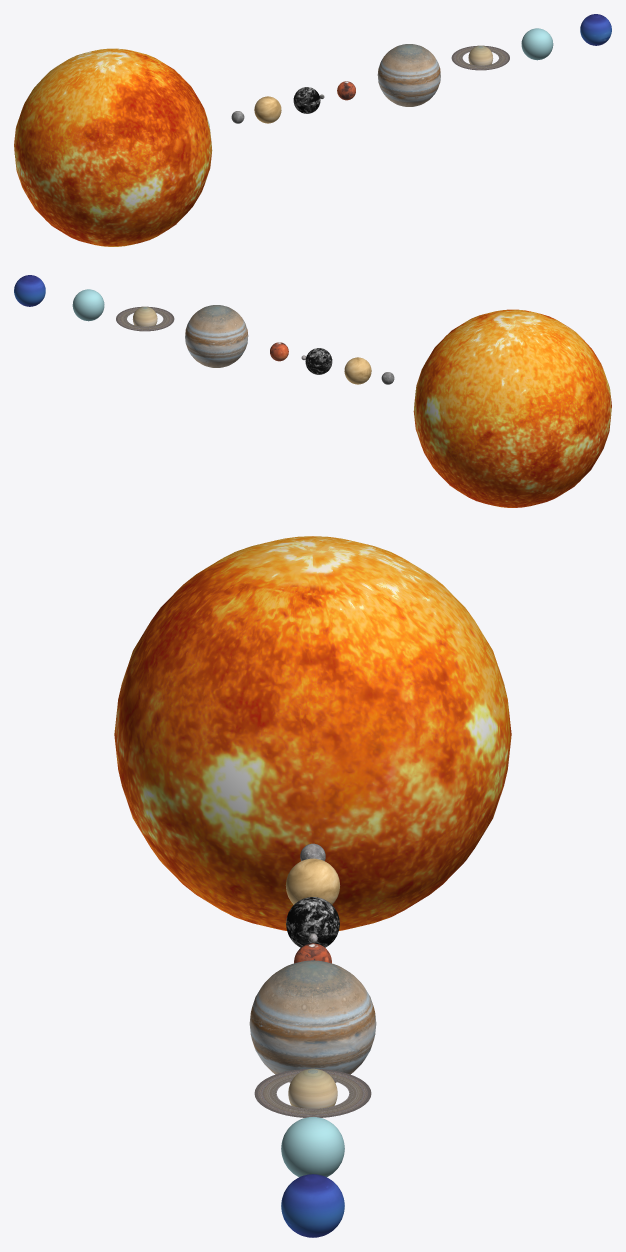
File: solar system.FBX
3 renders of one model, top to bottom at view 1: azimuth 30°, elevation 25°; view 2: azimuth 150°, elevation 25°; view 3: azimuth 270°, elevation 25°, orthographic. The views are drawn at different scales.
Visible parts, largest first — view 1: sun, jupiter, uranus, neptune, Tube002, venus001, earth001, saturn; view 2: sun, jupiter, uranus, neptune, Tube002, venus001, earth001, saturn; view 3: sun, jupiter, neptune, uranus, Tube002, earth001, venus001, saturn.
Boxes of the visible parts, x1=… form: sun: x1=14, y1=48, x2=212, y2=246; jupiter: x1=377, y1=44, x2=440, y2=106; uranus: x1=521, y1=28, x2=553, y2=60; neptune: x1=580, y1=14, x2=611, y2=45; Tube002: x1=451, y1=45, x2=509, y2=70; venus001: x1=254, y1=96, x2=281, y2=123; earth001: x1=293, y1=87, x2=320, y2=113; saturn: x1=468, y1=45, x2=493, y2=65; sun: x1=413, y1=309, x2=611, y2=507; jupiter: x1=185, y1=305, x2=248, y2=367; uranus: x1=72, y1=289, x2=104, y2=321; neptune: x1=14, y1=275, x2=45, y2=306; Tube002: x1=116, y1=306, x2=174, y2=331; venus001: x1=344, y1=357, x2=371, y2=384; earth001: x1=305, y1=348, x2=332, y2=374; saturn: x1=132, y1=306, x2=157, y2=326; sun: x1=114, y1=536, x2=511, y2=930; jupiter: x1=249, y1=960, x2=376, y2=1082; neptune: x1=281, y1=1174, x2=344, y2=1237; uranus: x1=281, y1=1117, x2=344, y2=1177; Tube002: x1=254, y1=1069, x2=371, y2=1117; earth001: x1=286, y1=897, x2=339, y2=947; venus001: x1=285, y1=858, x2=340, y2=904; saturn: x1=288, y1=1068, x2=337, y2=1108.
Bounding box in the file's own units: 2225 × 657 × 657.
13 materials, 13 textured.
